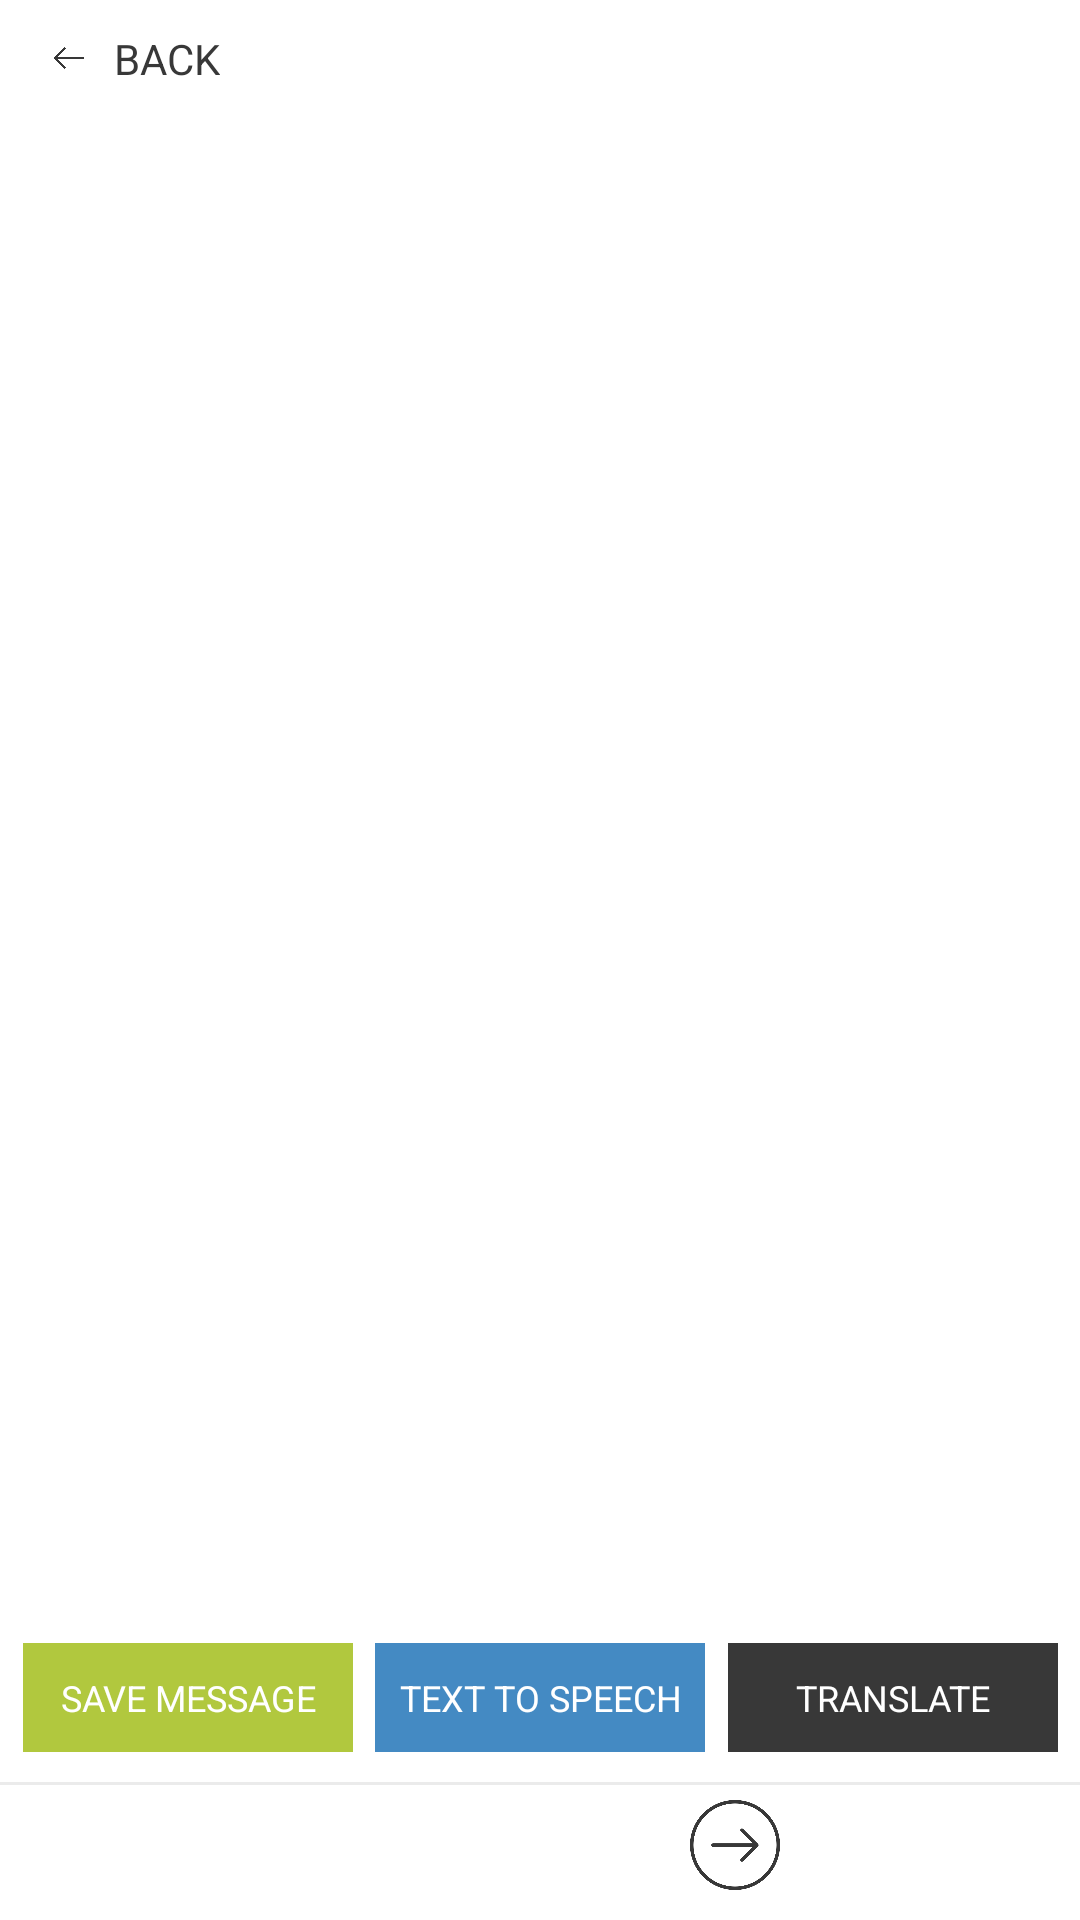

Icons on this 1080x1920 Android screen, each with the point to tap as point (x, y):
left arrow: point (69, 58)
right arrow detail: point (735, 1845)
